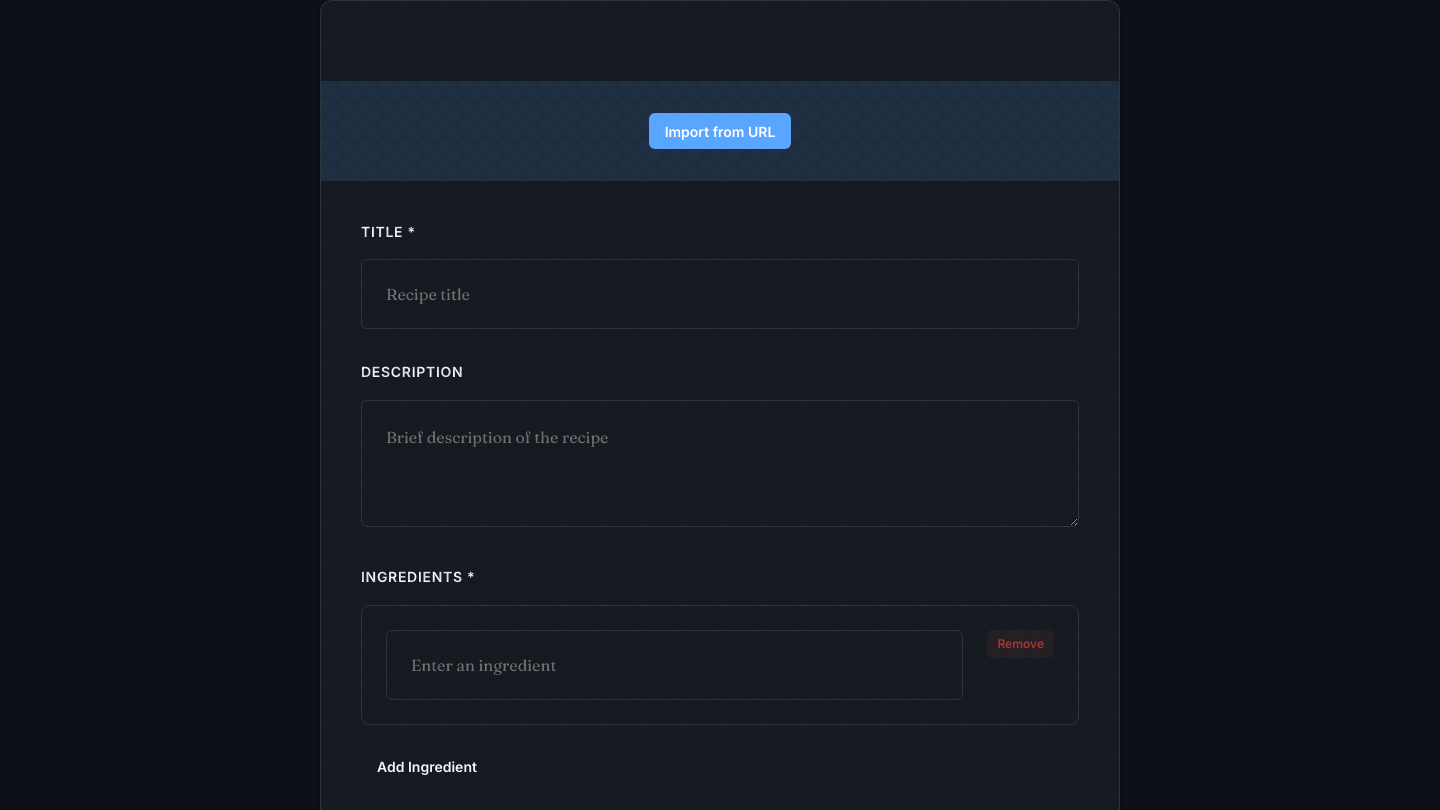
Test: RecipeForm URL Import Tests › opens URL import modal when import button is clicked
Note: Click import button
Click the button "Import from URL" at (720, 131), box [649, 113, 791, 149]
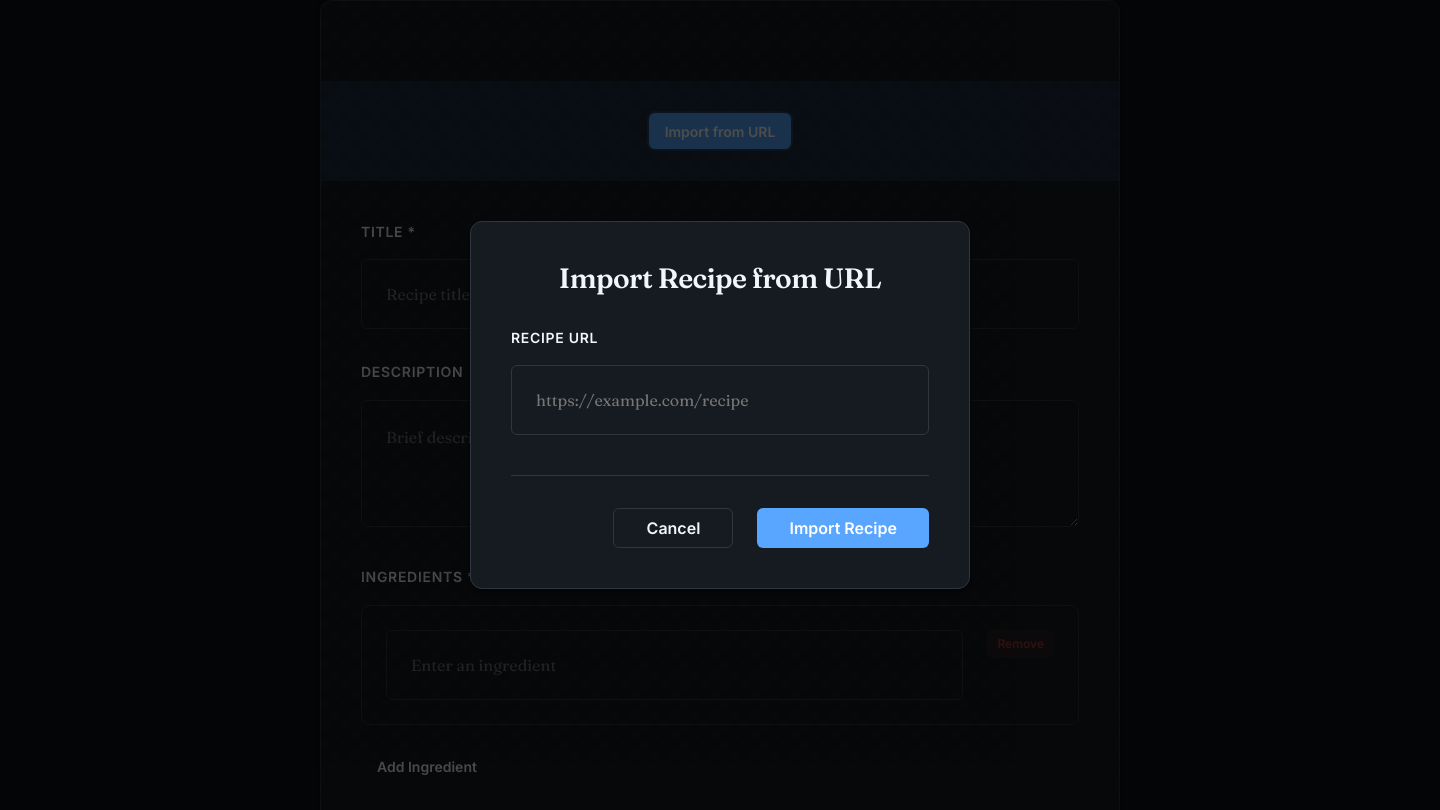
Expected: the heading "Import Recipe from URL" is shown, [559, 260, 881, 294]
Expected: the field labelled "Recipe URL" is shown, [511, 366, 929, 436]
